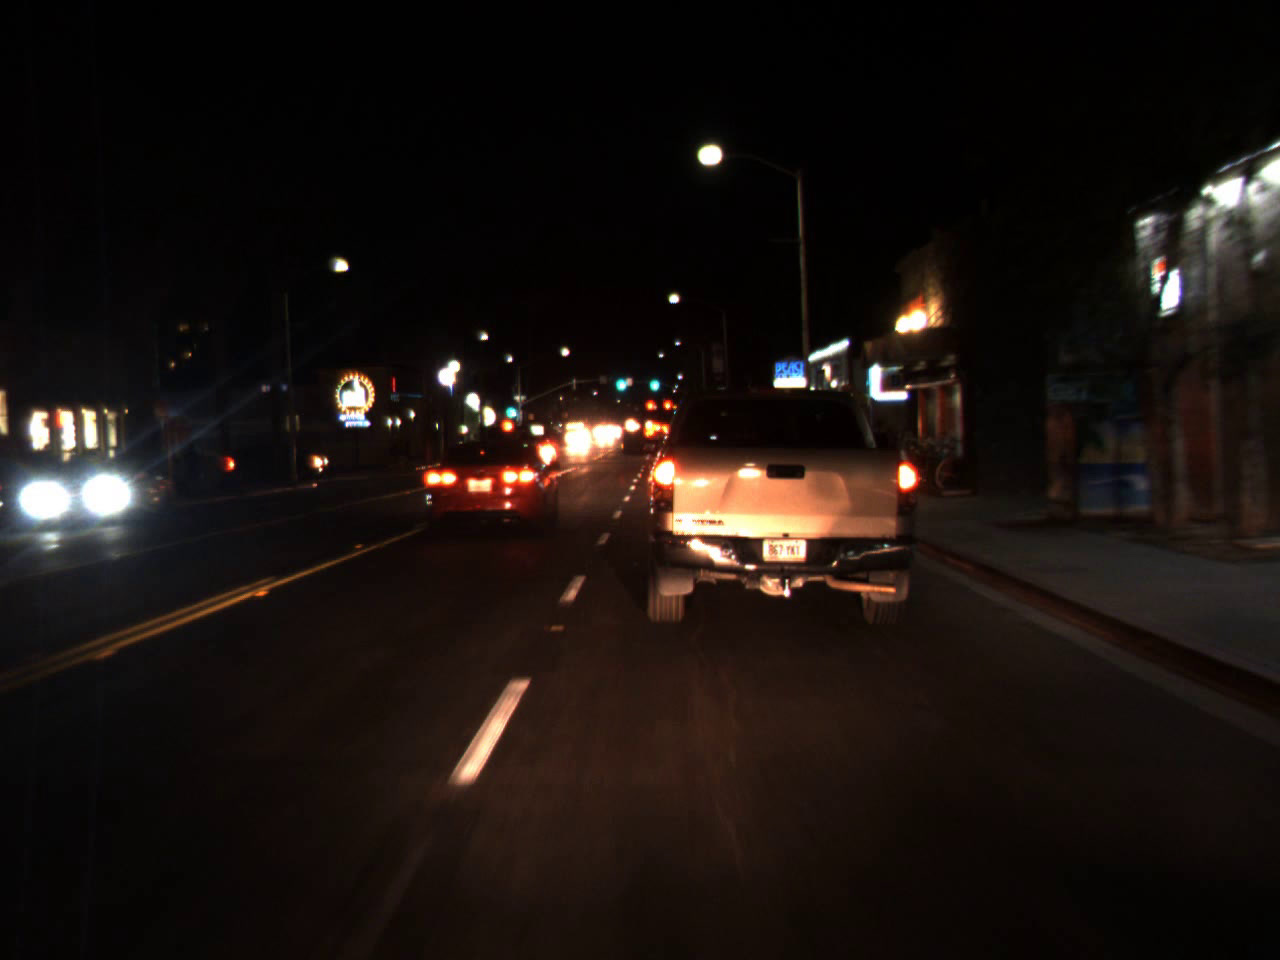go: (612, 365, 628, 395), (645, 367, 661, 394), (502, 394, 518, 421)
